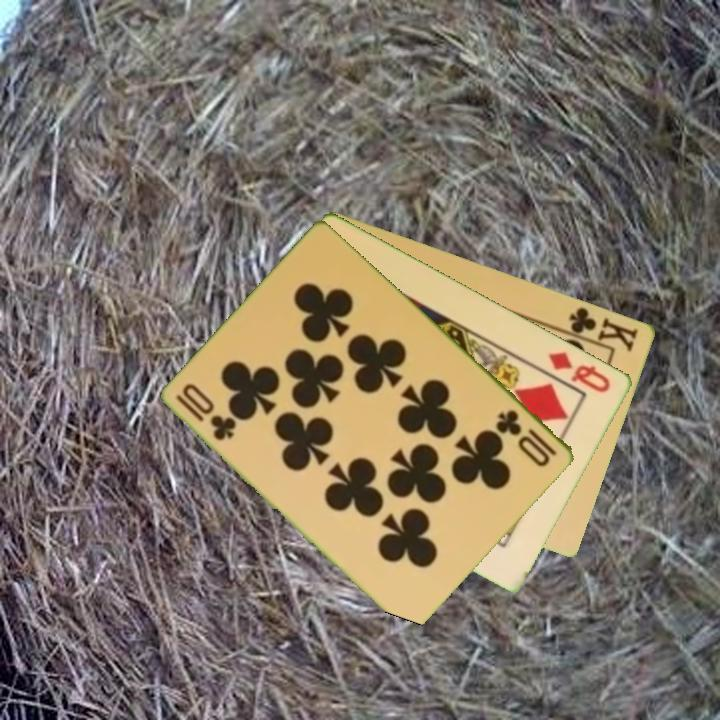10c: (492, 405, 560, 470), (173, 380, 239, 444)
Kc: (558, 303, 642, 355)
Qd: (545, 347, 614, 396)
